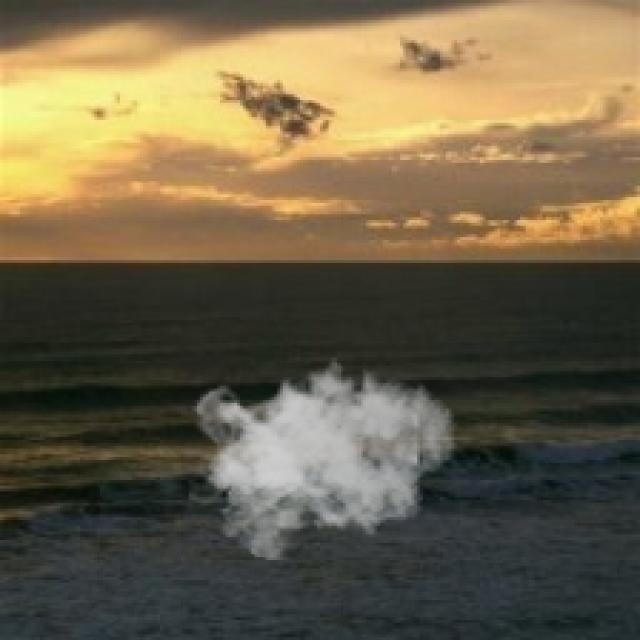Smoke: (188, 348, 458, 560)
